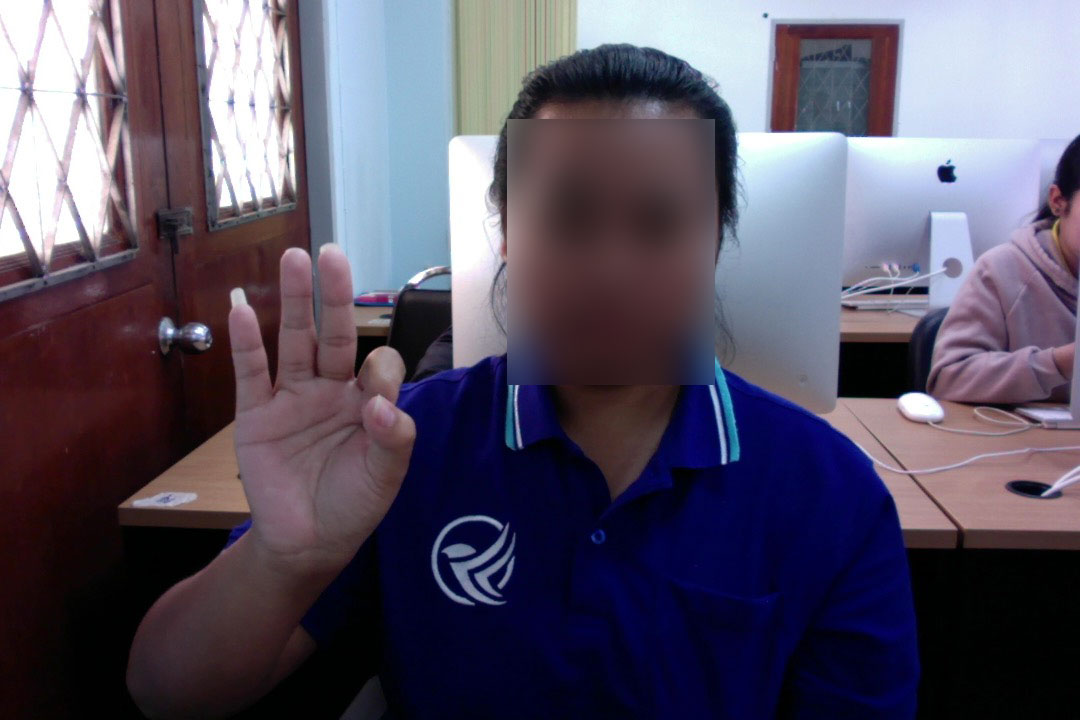for: (219, 229, 419, 576)
